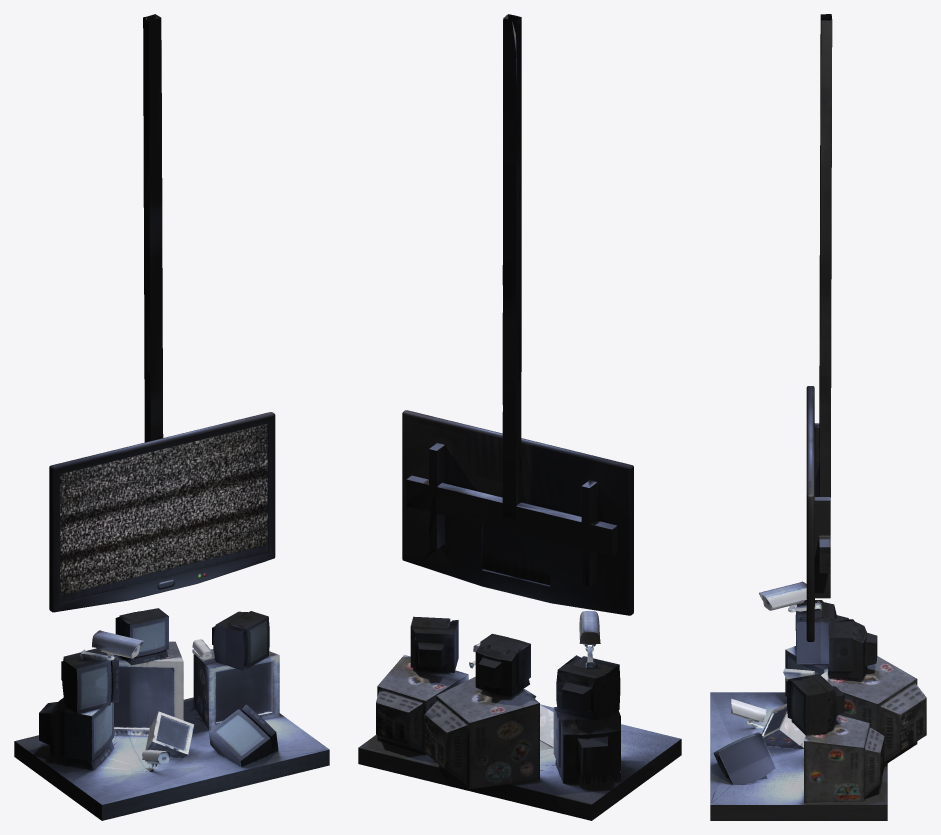
Rendered from glich_27_55050970.glb.
The picture shows the model from 3 angles, left to right: view 1: azimuth 30°, elevation 25°; view 2: azimuth 150°, elevation 25°; view 3: azimuth 270°, elevation 25°; orthographic projection. The views are drawn at different scales.
Visible parts, largest first — view 1: Mesh_0.002; view 2: Mesh_0.002; view 3: Mesh_0.002.
Part boxes in pixels (<box>): Mesh_0.002: <box>14,14,329,820</box>; Mesh_0.002: <box>358,14,681,820</box>; Mesh_0.002: <box>710,14,926,820</box>.
Bounding box in the file's own units: 1.51 × 4.66 × 1.22.
1 material, 1 textured.
